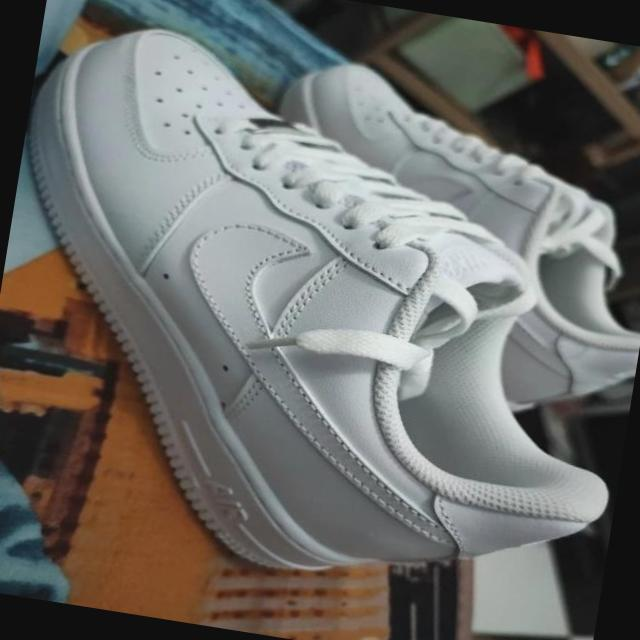nike_original_airforce: (0, 6, 640, 620), (221, 50, 640, 431)
